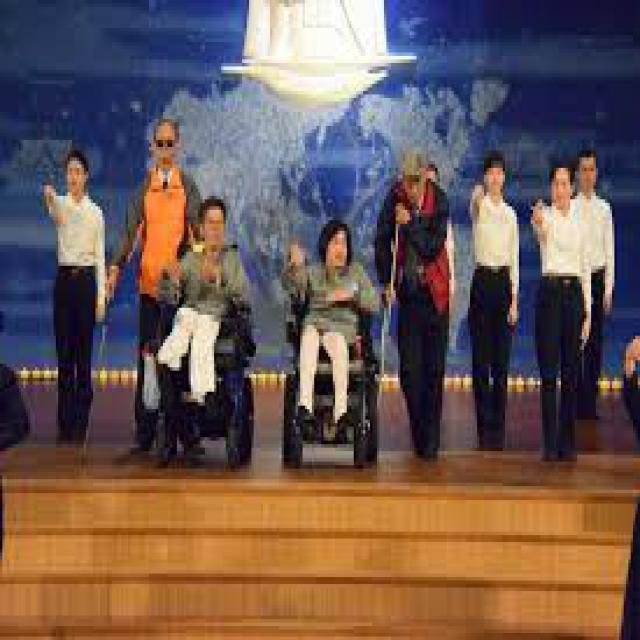wheelchairs: (265, 283, 384, 469), (146, 276, 254, 469)
